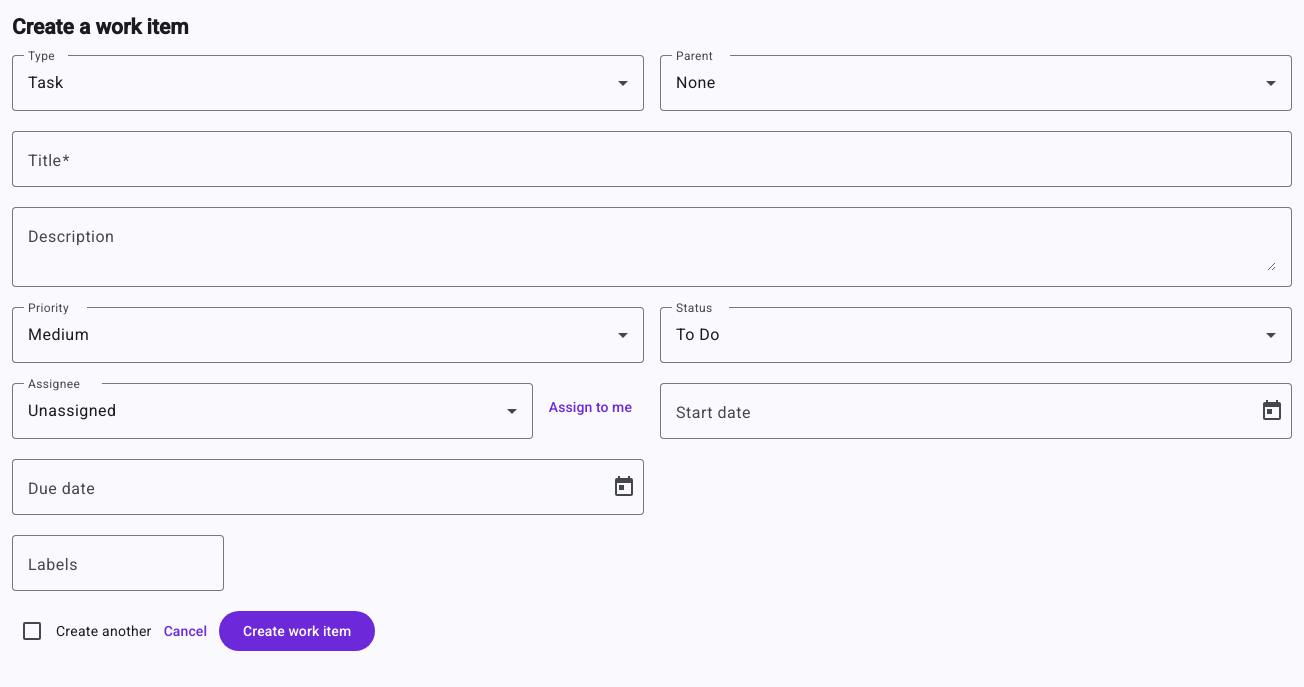
Test: WorkItemModalComponent (error display) › shows a server error inside the dialog without closing it, retaining entered values
The image size is (1304, 687).
Step 1. Type "Fix the login bug" into the field with id "title" → point(652, 159), box [28,147,1276,171]
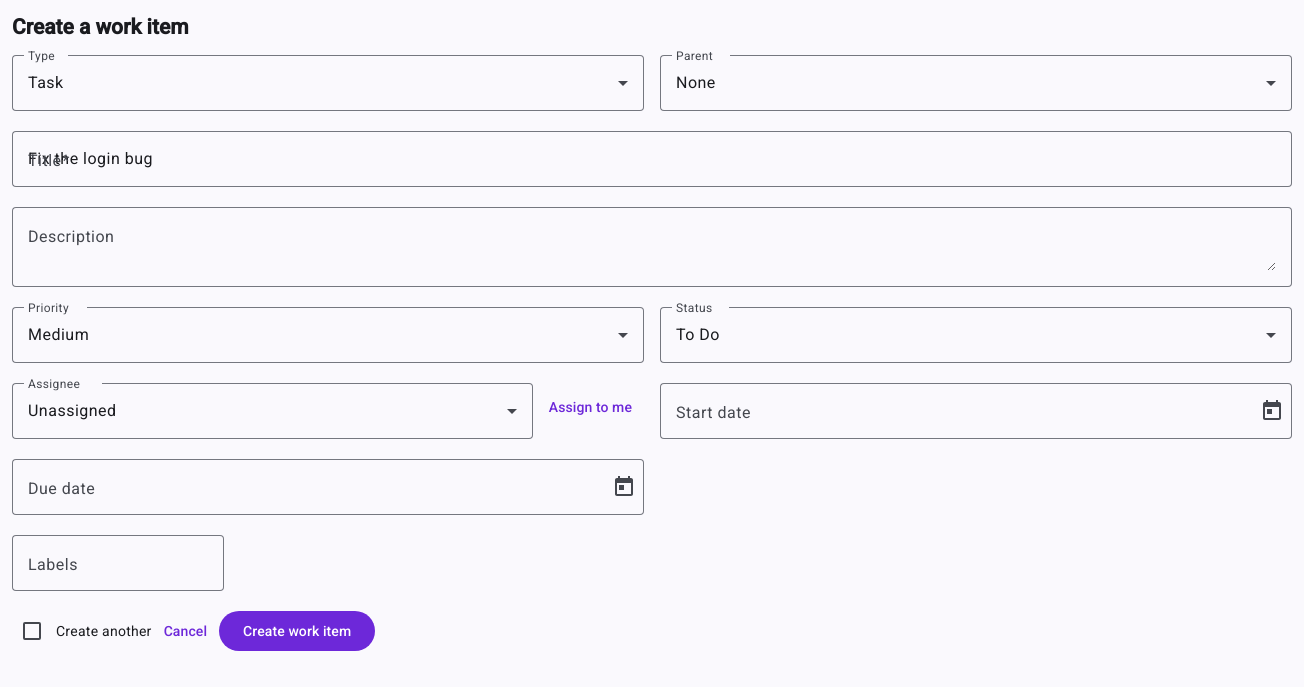
Step 2. Submit the form
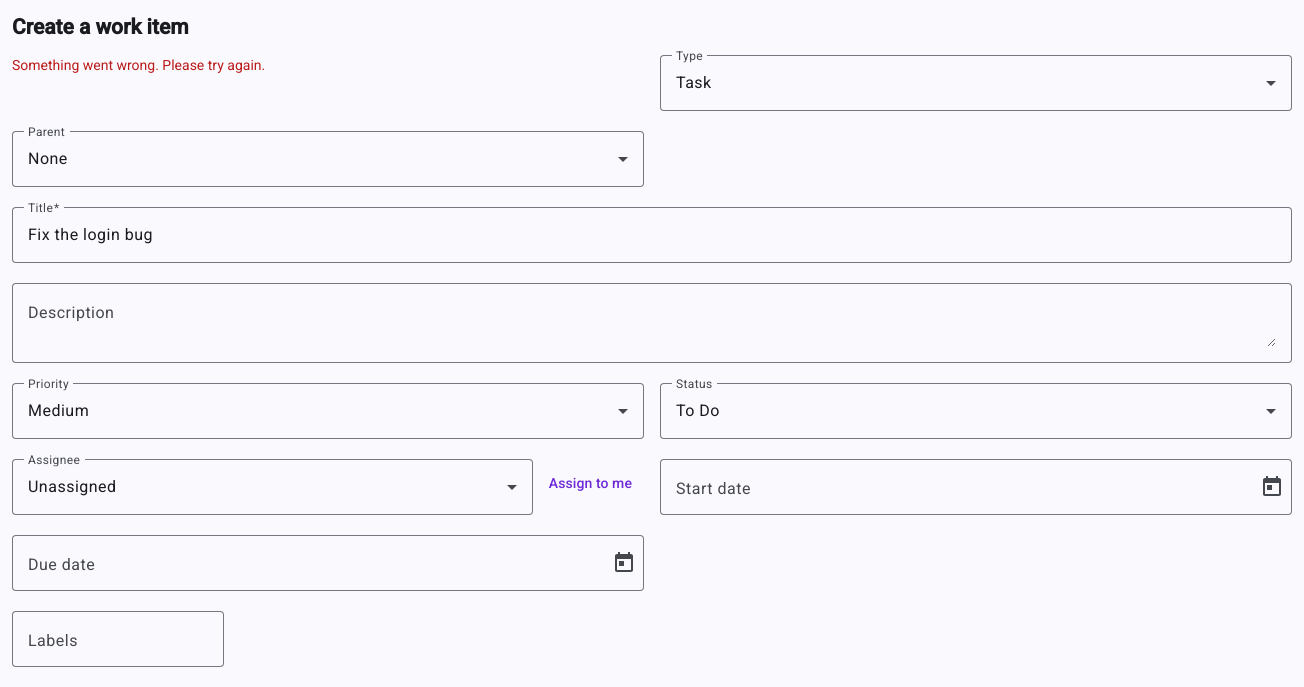
Expected: the message with class "server-error" shows "Something went wrong", [12,57,265,73]
